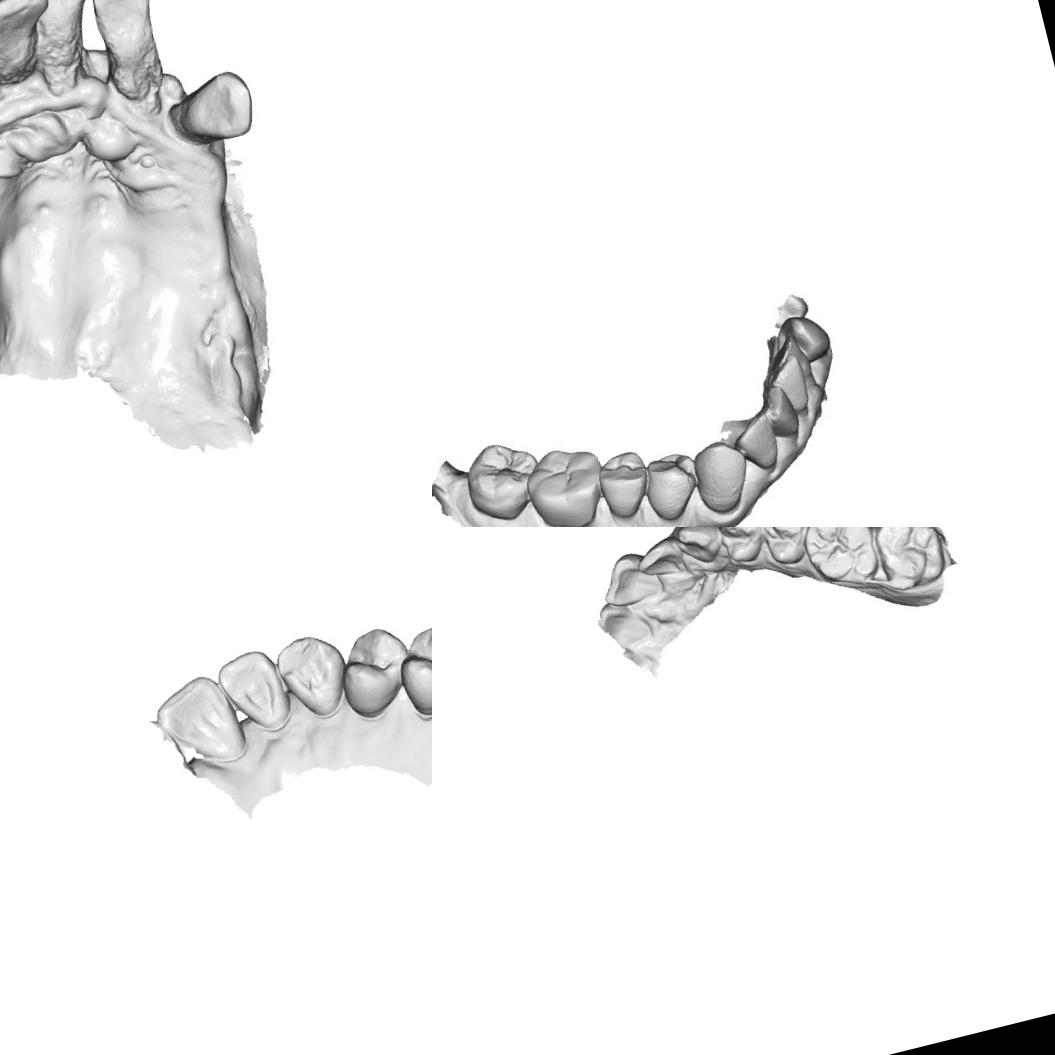canine: (271, 625, 356, 725), (168, 64, 259, 152), (688, 436, 756, 516), (667, 527, 726, 570)
incisor: (146, 666, 250, 775), (210, 639, 300, 742), (593, 545, 665, 611), (83, 0, 160, 53), (727, 410, 786, 476), (0, 0, 58, 60), (770, 355, 822, 420), (755, 382, 805, 442), (631, 532, 688, 582), (18, 0, 110, 30), (777, 314, 826, 365)
molar: (452, 431, 546, 527), (523, 438, 613, 527), (796, 527, 885, 595), (867, 527, 951, 594)
premolar: (326, 617, 420, 722), (588, 444, 654, 522), (638, 448, 702, 524), (387, 618, 432, 719), (757, 527, 814, 569), (713, 527, 771, 567)
